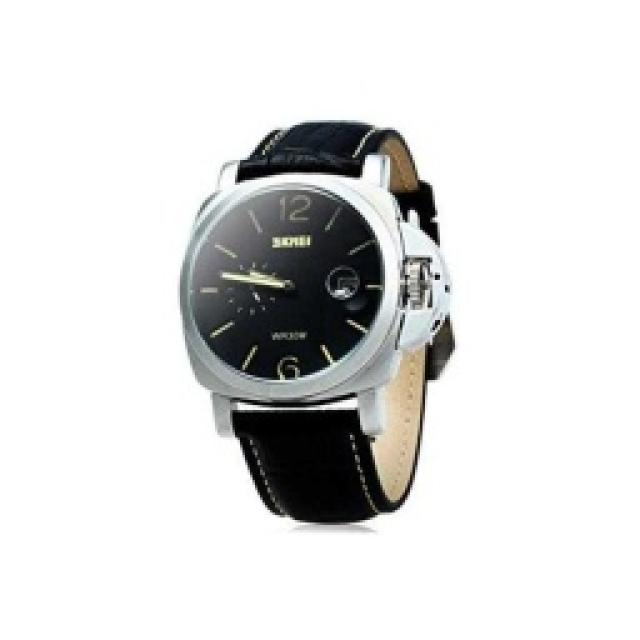saat: (170, 108, 473, 538)
